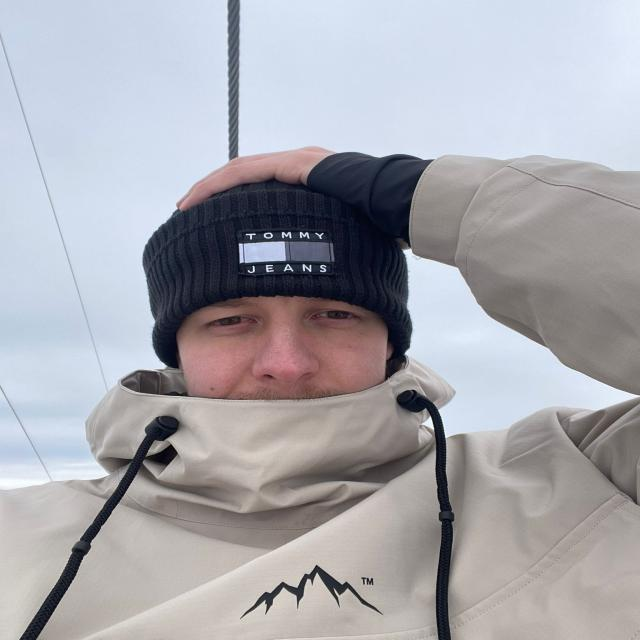JeremiasDiaz: (158, 192, 412, 410)
